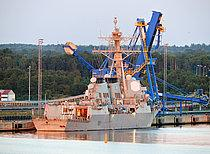MIL_Ship: (32, 26, 158, 131)
